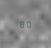eight: (19, 20, 24, 28)
zero: (25, 20, 30, 28)
